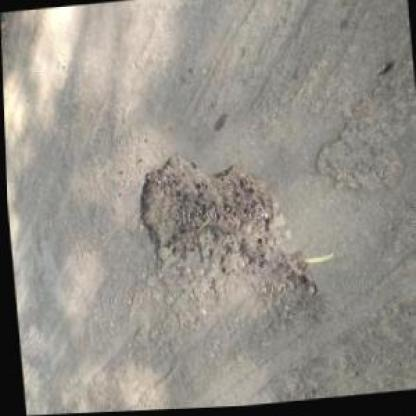pothole: (132, 142, 286, 274)
